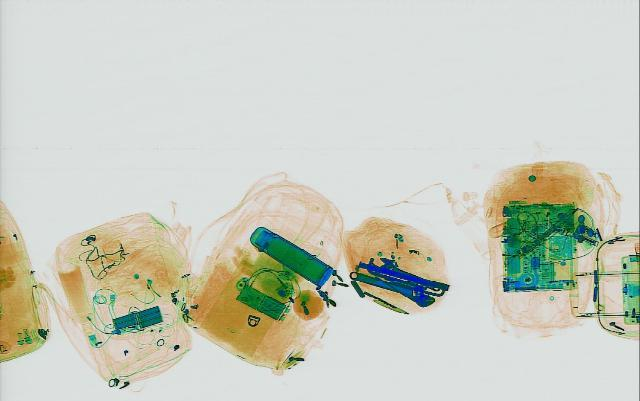Wrench: (339, 267, 438, 307), (358, 252, 448, 294)
